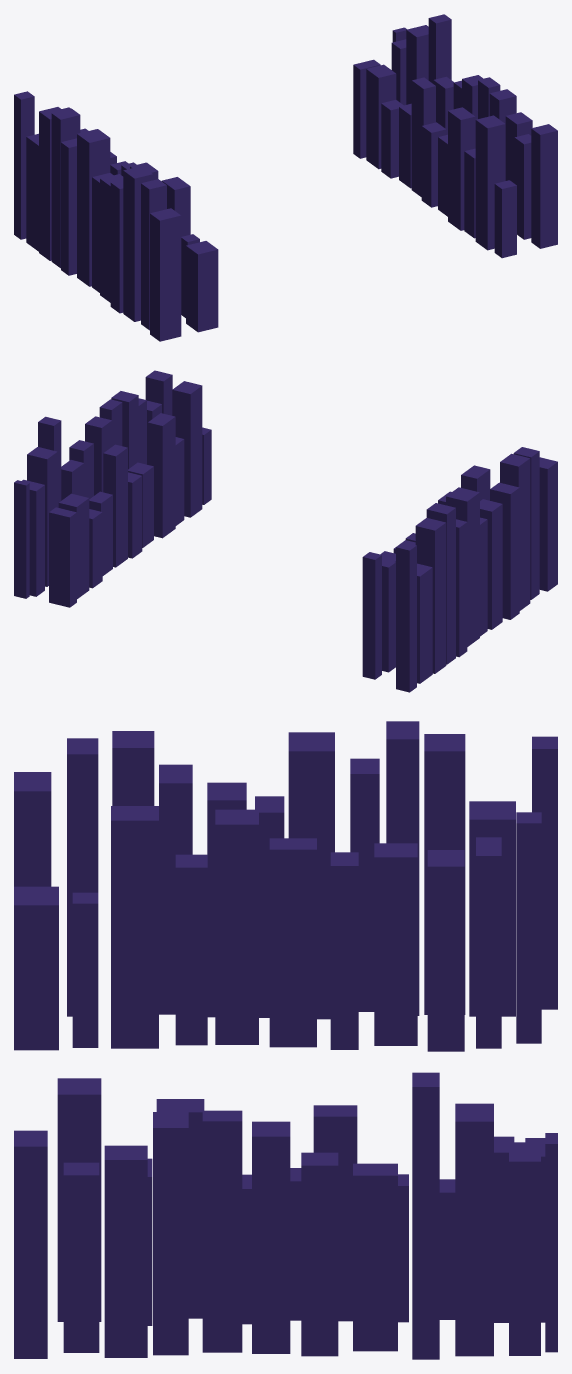
Rendered from Skyline_CityFar.fbx.
3 views of the same model, one above another, from view 1: azimuth 30°, elevation 25°; view 2: azimuth 150°, elevation 25°; view 3: azimuth 270°, elevation 25° (orthographic). The views are drawn at different scales.
Parts seen in each view (by area): view 1: Bldg-1_1_-30.001; view 2: Bldg-1_1_-30.001; view 3: Bldg-1_1_-30.001.
Boxes of the visible parts, bbox=[...] form: Bldg-1_1_-30.001: bbox=[14, 14, 557, 341]; Bldg-1_1_-30.001: bbox=[14, 370, 557, 692]; Bldg-1_1_-30.001: bbox=[14, 721, 557, 1359].
Size of the model in its own units: 40783 by 14471 by 25800.
